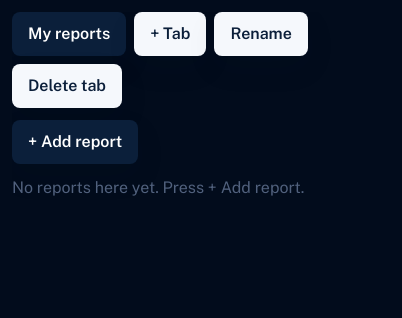
Scenario: Reports board › offers only the reports the server allows, and saves a card when added
Click the button with test id "reports-add" at (75, 142), box left=12, top=120, right=138, bottom=164
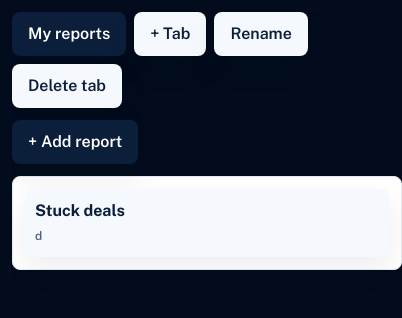
Result: the element with test id "reports-library" shows "Stuck deals" at left=25, top=189, right=389, bottom=257
Click the text "Stuck deals" at (80, 210), box left=35, top=201, right=125, bottom=220
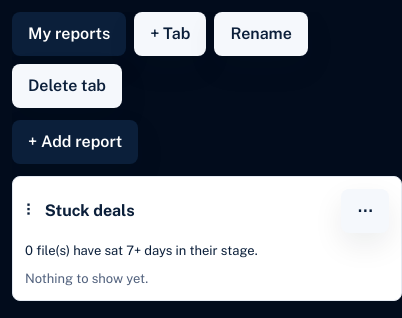
Result: the element with test id "report-card-stuck_deals" is shown at left=12, top=176, right=401, bottom=301
